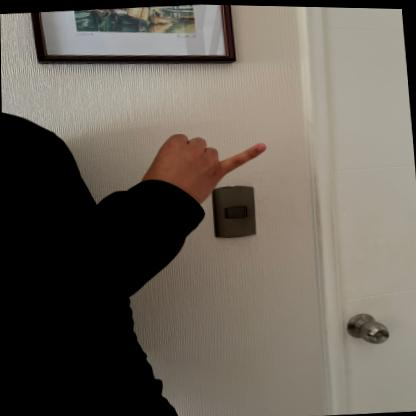J: (142, 116, 274, 206)
